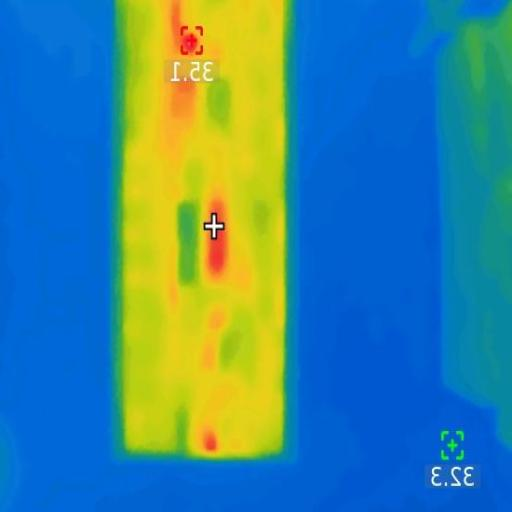hotspot: (205, 202, 223, 274), (180, 25, 202, 60)
